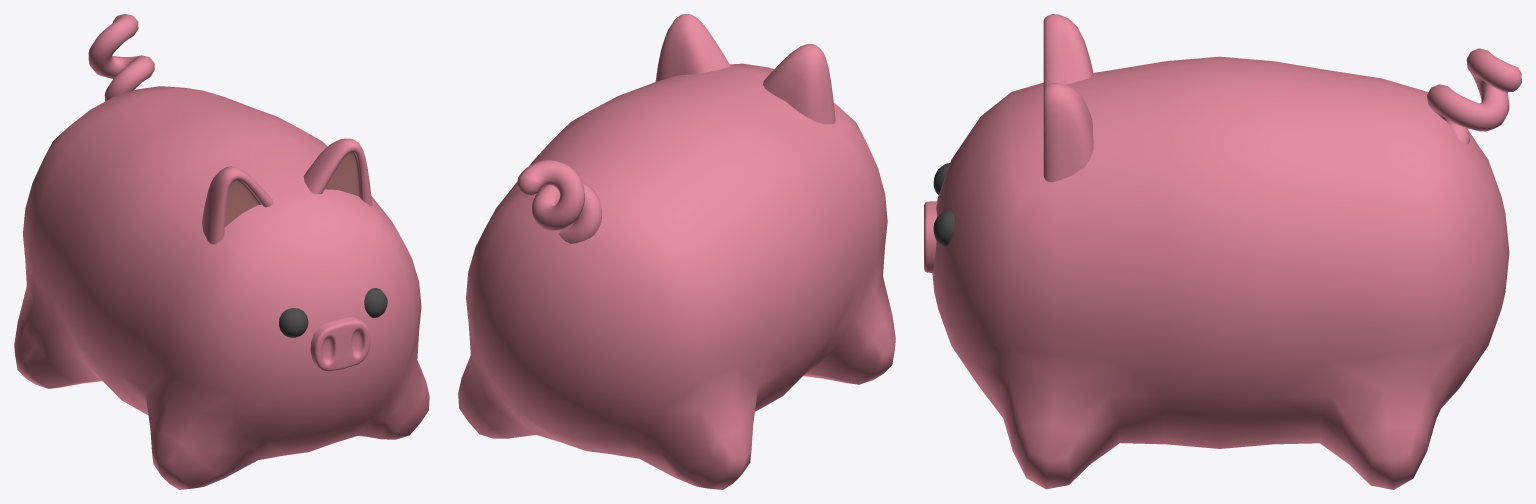
Rendered from Doll_pig.glb.
3 views of the same model, side by side, from view 1: azimuth 30°, elevation 25°; view 2: azimuth 150°, elevation 25°; view 3: azimuth 270°, elevation 25° (orthographic). The views are drawn at different scales.
Visible parts, largest first — view 1: Toy_Pig_1; view 2: Toy_Pig_1; view 3: Toy_Pig_1.
Boxes of the visible parts, bbox=[...] form: Toy_Pig_1: bbox=[14, 14, 429, 489]; Toy_Pig_1: bbox=[458, 14, 895, 489]; Toy_Pig_1: bbox=[924, 14, 1521, 489].
Size of the model in its own units: 0.4758 by 0.5172 by 0.7334.
1 material, 1 textured.
